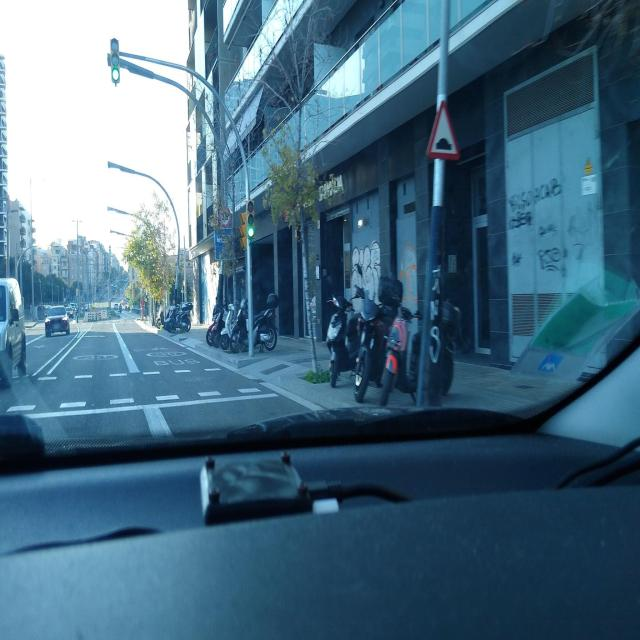bike: (373, 298, 462, 408), (348, 277, 405, 400), (326, 293, 367, 388), (233, 307, 277, 353), (206, 304, 231, 347), (166, 302, 194, 332)
car: (0, 275, 27, 393), (44, 305, 70, 336)
